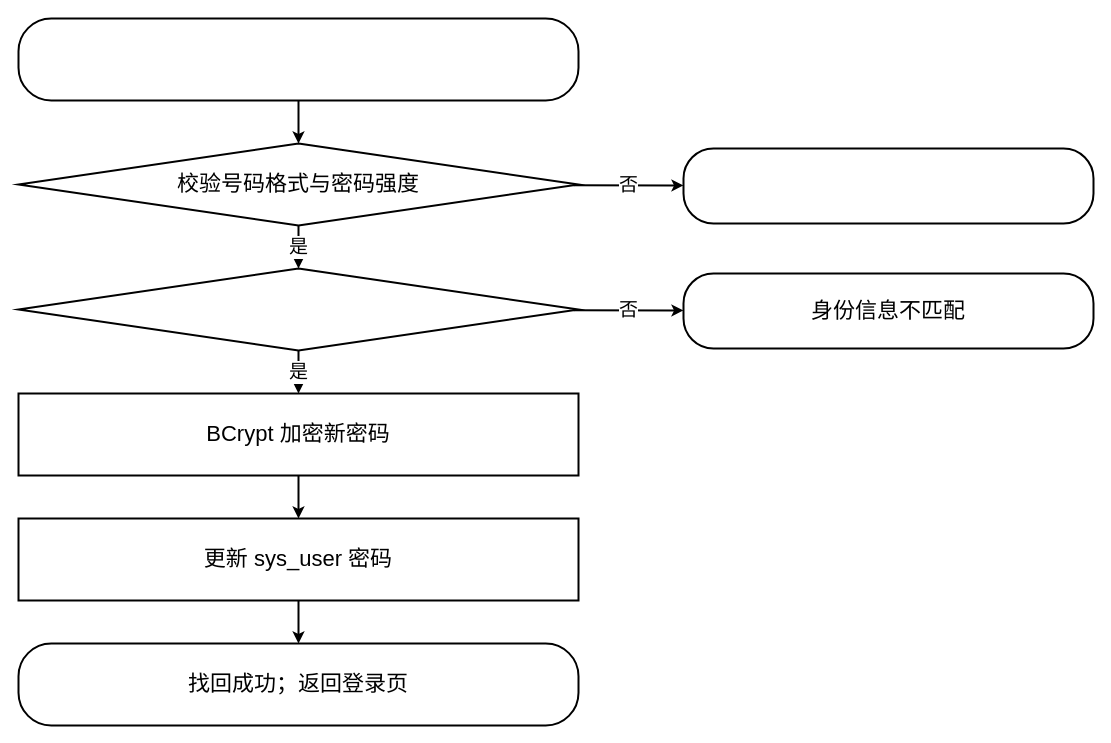
Image size: 1111x743. Some labels were removed from this diagram. Here are the shapes that lost their labels. From the top down, the box of each, then its label:
(17, 17, 579, 101): 开始／填写身份证号、手机号及新密码
(682, 147, 1094, 224): 提示输入不合法
(17, 267, 579, 351): 匹配客户档案与账号
